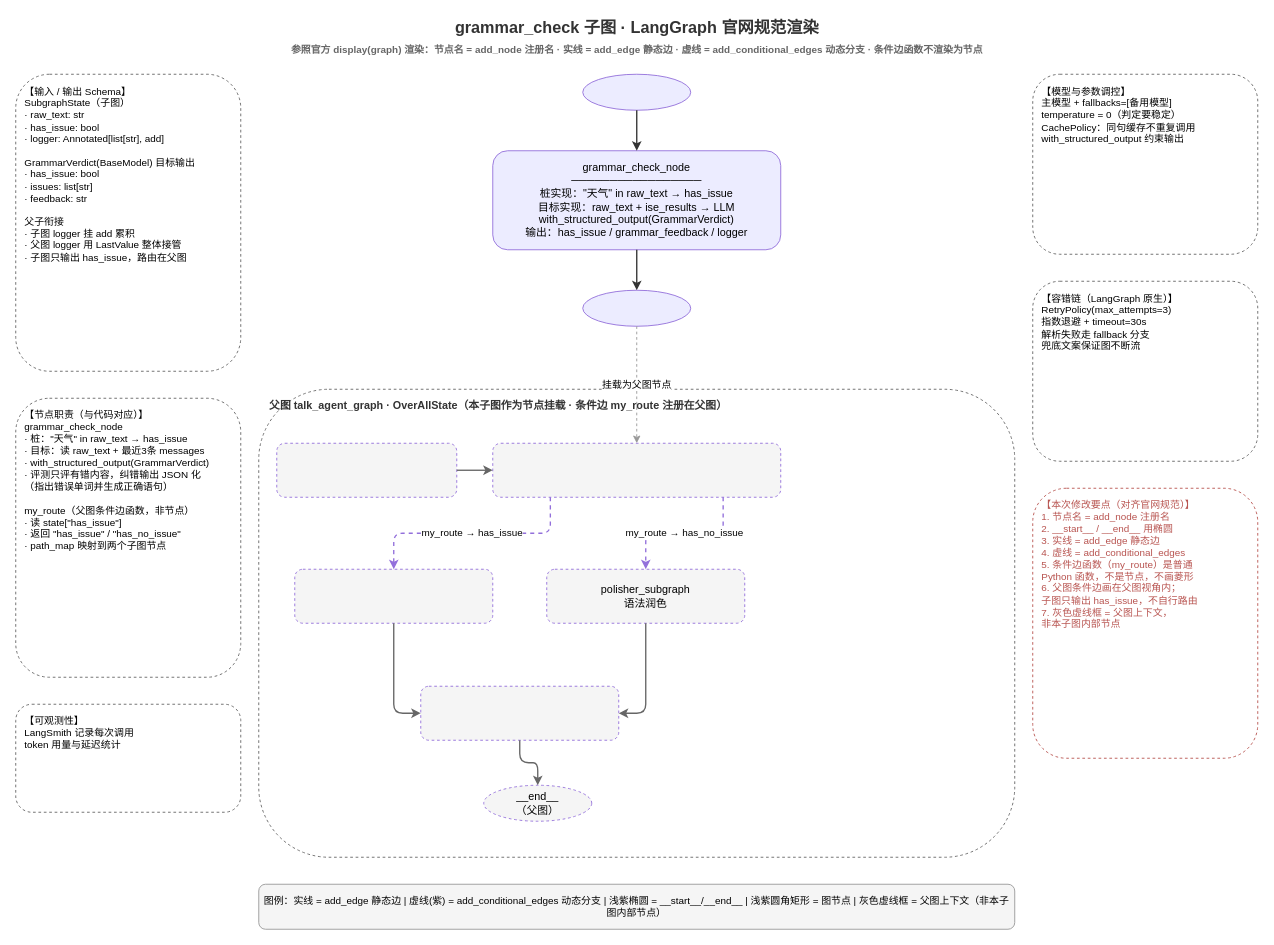
This 1274x945 diagram has some shape labels left out. Here are the shapes that lost their labels. From the top down, the centre of each, then its label:
point 636,91: __start__
point 636,307: __end__
point 366,469: xfyun_ita_tool_node 语音评测 → raw_text
point 636,469: grammar_check_subgraph（本图） add_node("grammar_check_subgraph", ...)
point 393,595: grammer_tutor_subgraph 语法纠错
point 519,712: coach_reply_subgraph 教练回复
